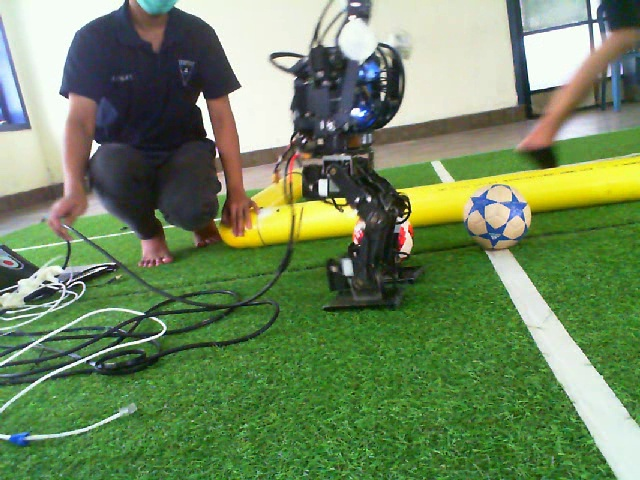ball: (462, 181, 533, 252), (394, 212, 416, 264)
